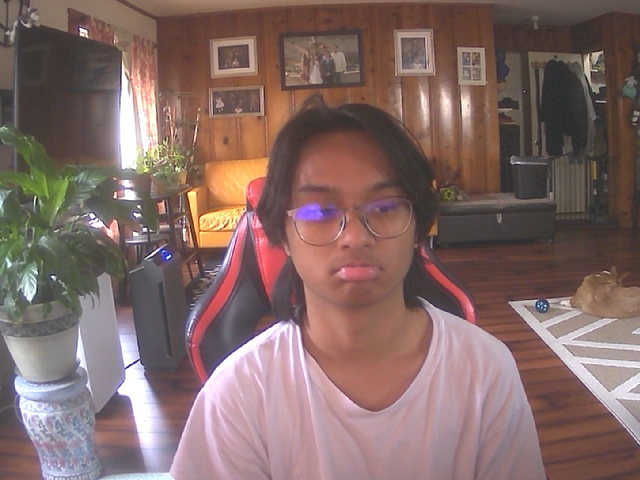sad: (280, 120, 424, 311)
